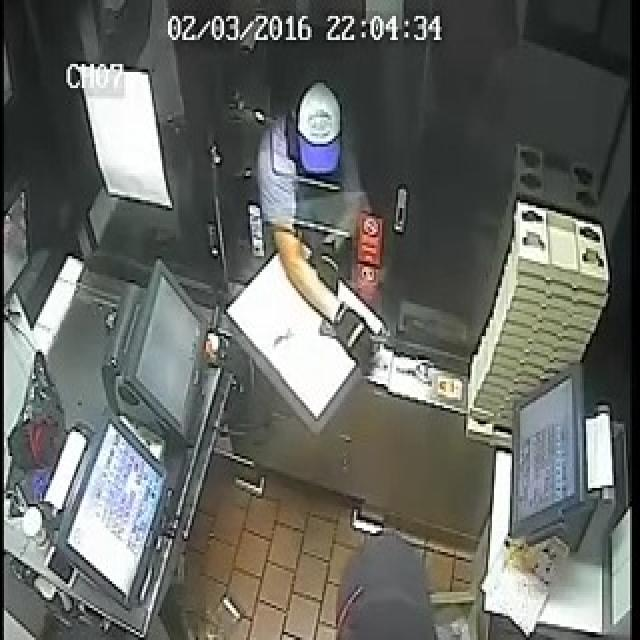thief: (262, 107, 388, 294)
